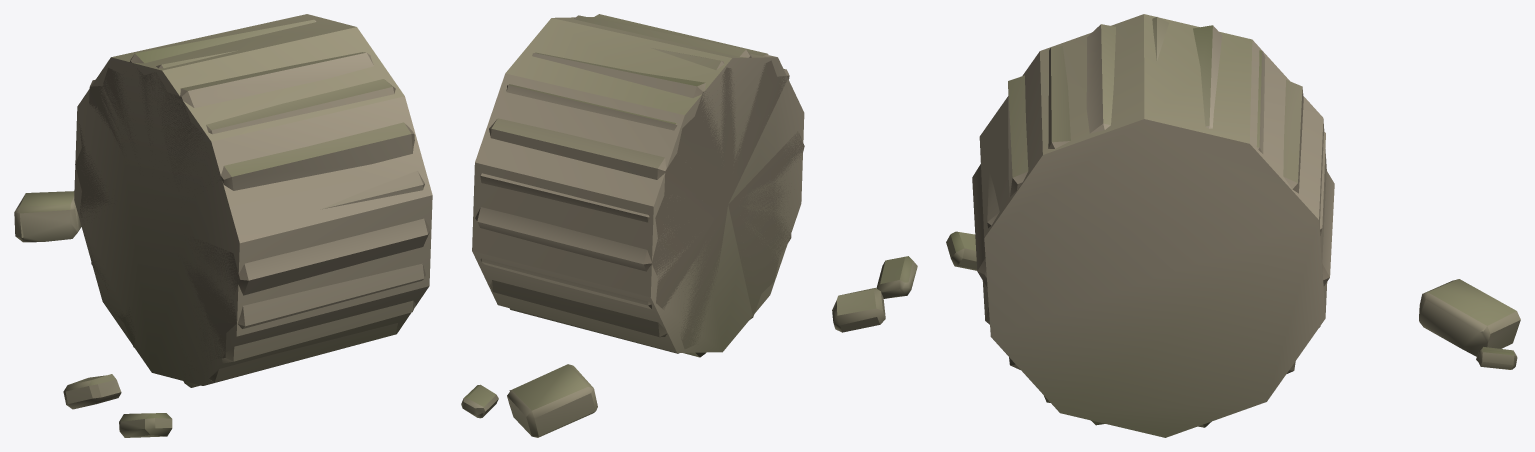
Rendered from agora_drum.glb.
3 views of the same model, side by side, from view 1: azimuth 30°, elevation 25°; view 2: azimuth 150°, elevation 25°; view 3: azimuth 270°, elevation 25° (orthographic). The views are drawn at different scales.
Visible parts, largest first — view 1: agora_drum_far, agora_drum; view 2: agora_drum_far, agora_drum; view 3: agora_drum_far, agora_drum.
Boxes of the visible parts, left/top/right/bottom form: agora_drum_far: left=74, top=14, right=432, bottom=385; agora_drum: left=14, top=19, right=429, bottom=437; agora_drum_far: left=472, top=17, right=804, bottom=352; agora_drum: left=461, top=14, right=917, bottom=437; agora_drum_far: left=979, top=14, right=1327, bottom=437; agora_drum: left=946, top=17, right=1520, bottom=427.
Bounding box in the file's own units: 4.17 × 3.8 × 6.03.
